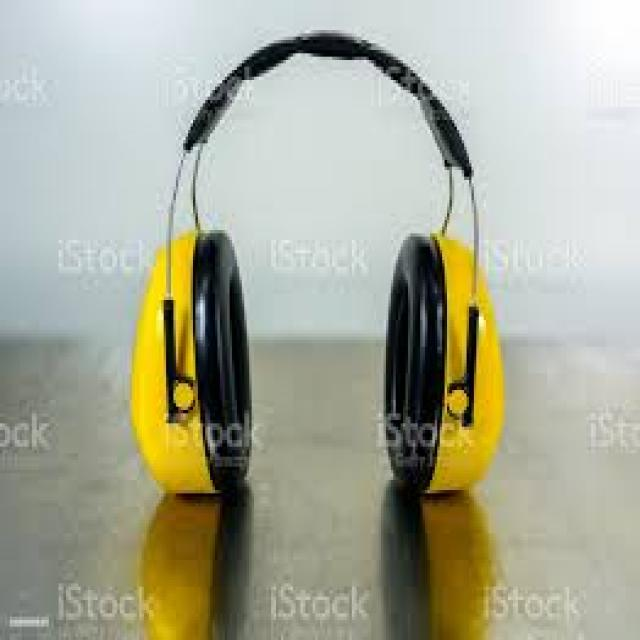Ear-protection: (125, 224, 249, 494), (379, 224, 503, 494)
